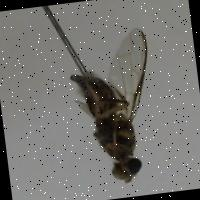Oriental-fruit-fly: (60, 26, 168, 188)
